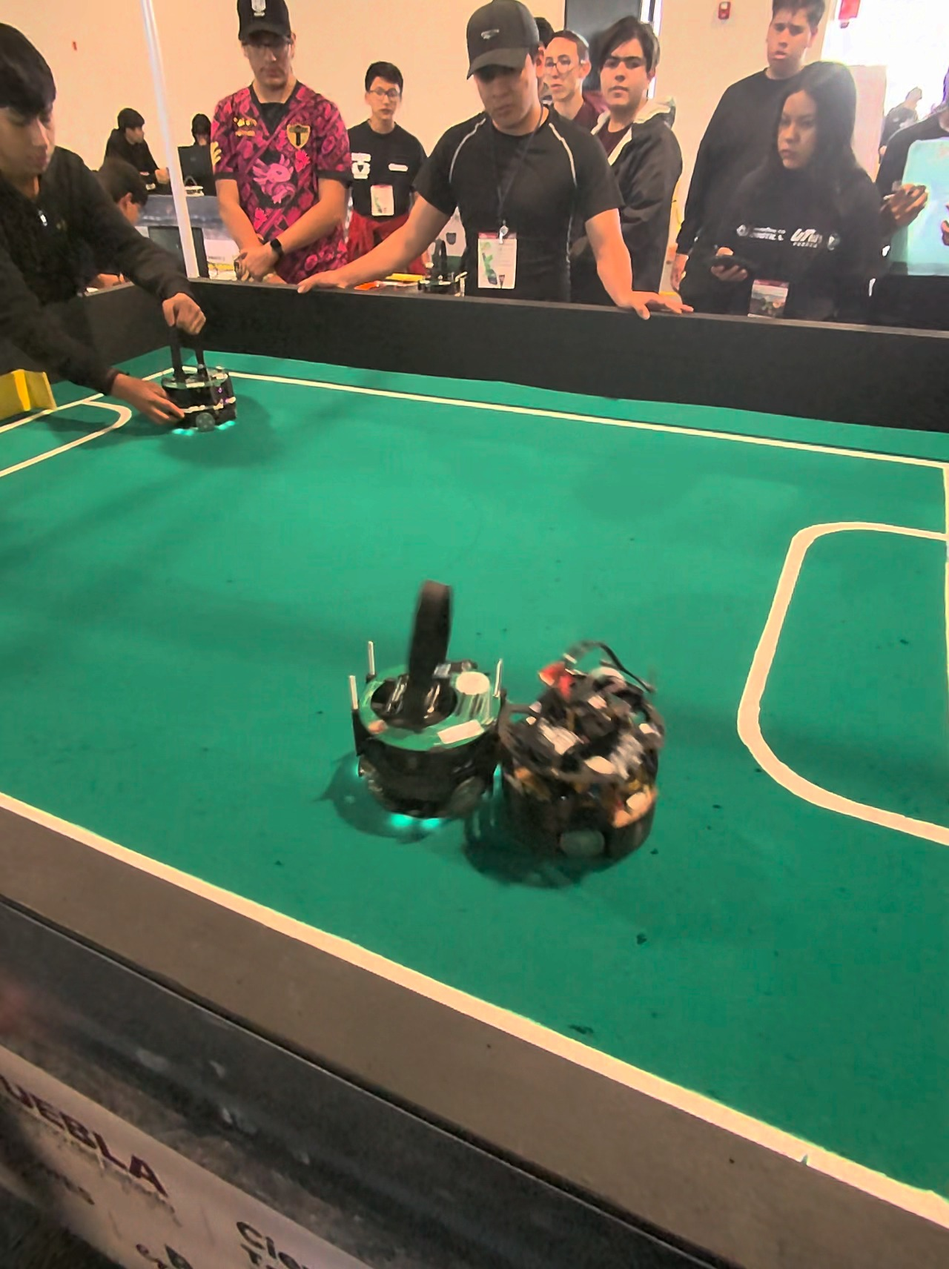Robot: (471, 629, 676, 894), (334, 564, 513, 854), (158, 283, 245, 457)
